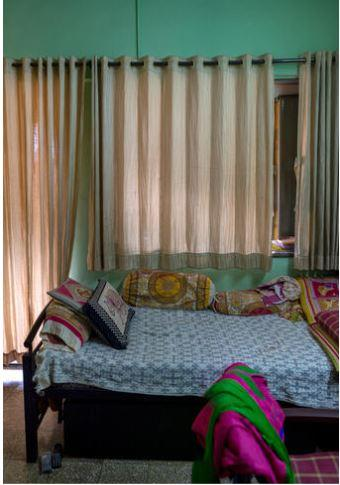bed: (23, 244, 340, 461)
